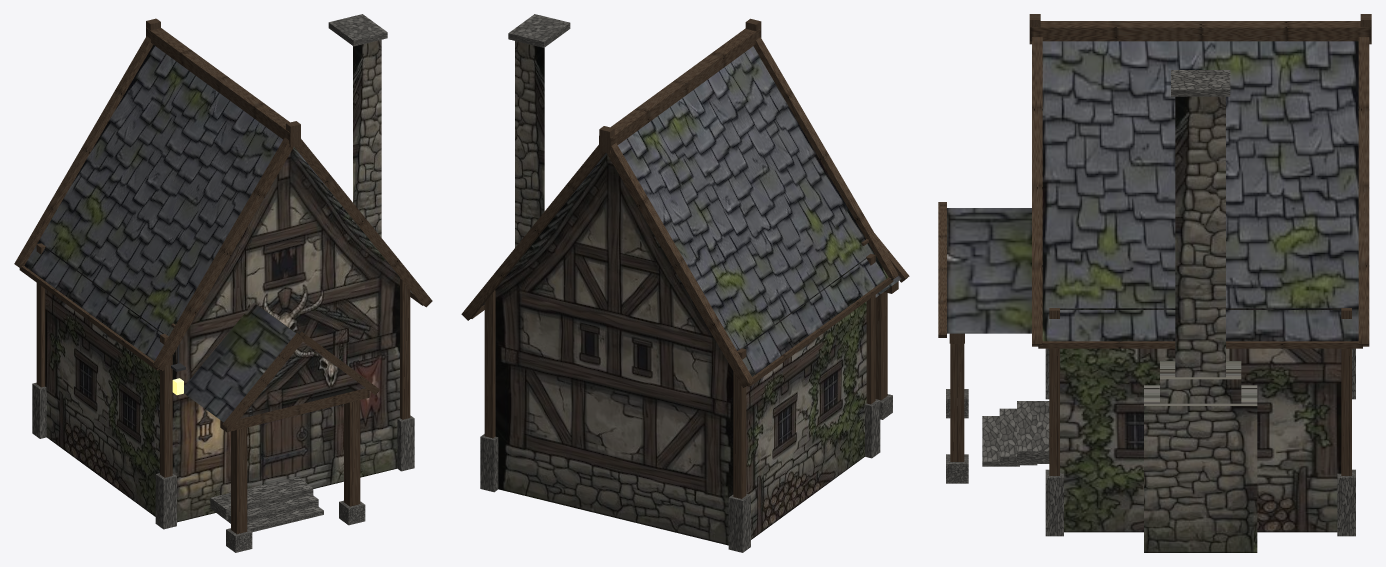
Rendered from casa_entramado.glb.
3 renders of one model, left to right at view 1: azimuth 30°, elevation 25°; view 2: azimuth 150°, elevation 25°; view 3: azimuth 270°, elevation 25°, orthographic. The views are drawn at different scales.
Parts seen in each view (by area): view 1: pieza; view 2: pieza; view 3: pieza.
Boxes of the visible parts, left/top/right/bottom form: pieza: left=14, top=14, right=432, bottom=552; pieza: left=461, top=14, right=909, bottom=552; pieza: left=938, top=14, right=1371, bottom=552.
Bounding box in the file's own units: 7.38 × 9.42 × 8.01.
Materials: 6 (4 with a texture image).
